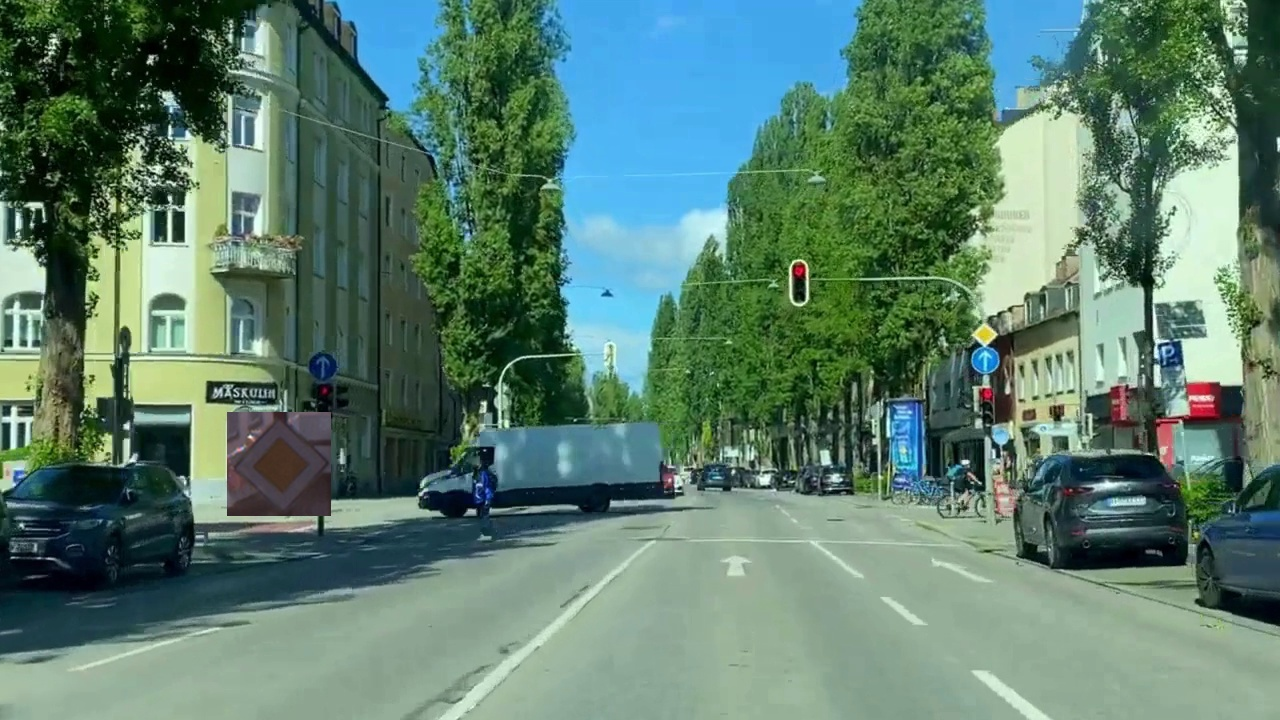Priority road: (227, 412, 331, 516)
